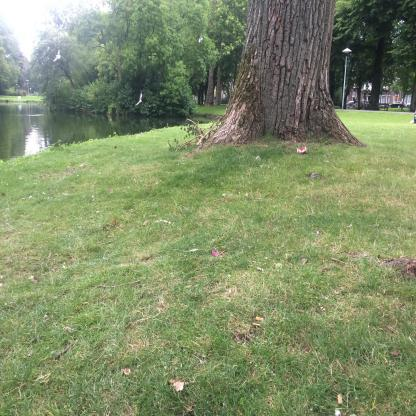metal: (298, 148, 308, 156)
